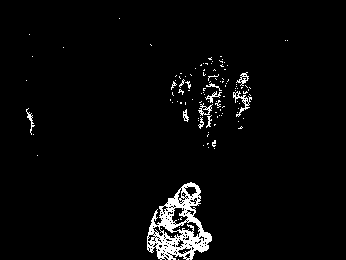person: (145, 178, 212, 260), (198, 73, 224, 148), (233, 71, 254, 132)
